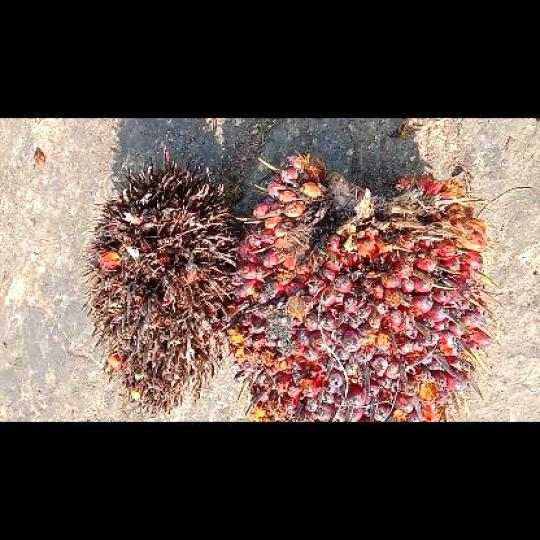masak: (222, 156, 500, 420)
terlalu masak: (80, 149, 239, 412)
